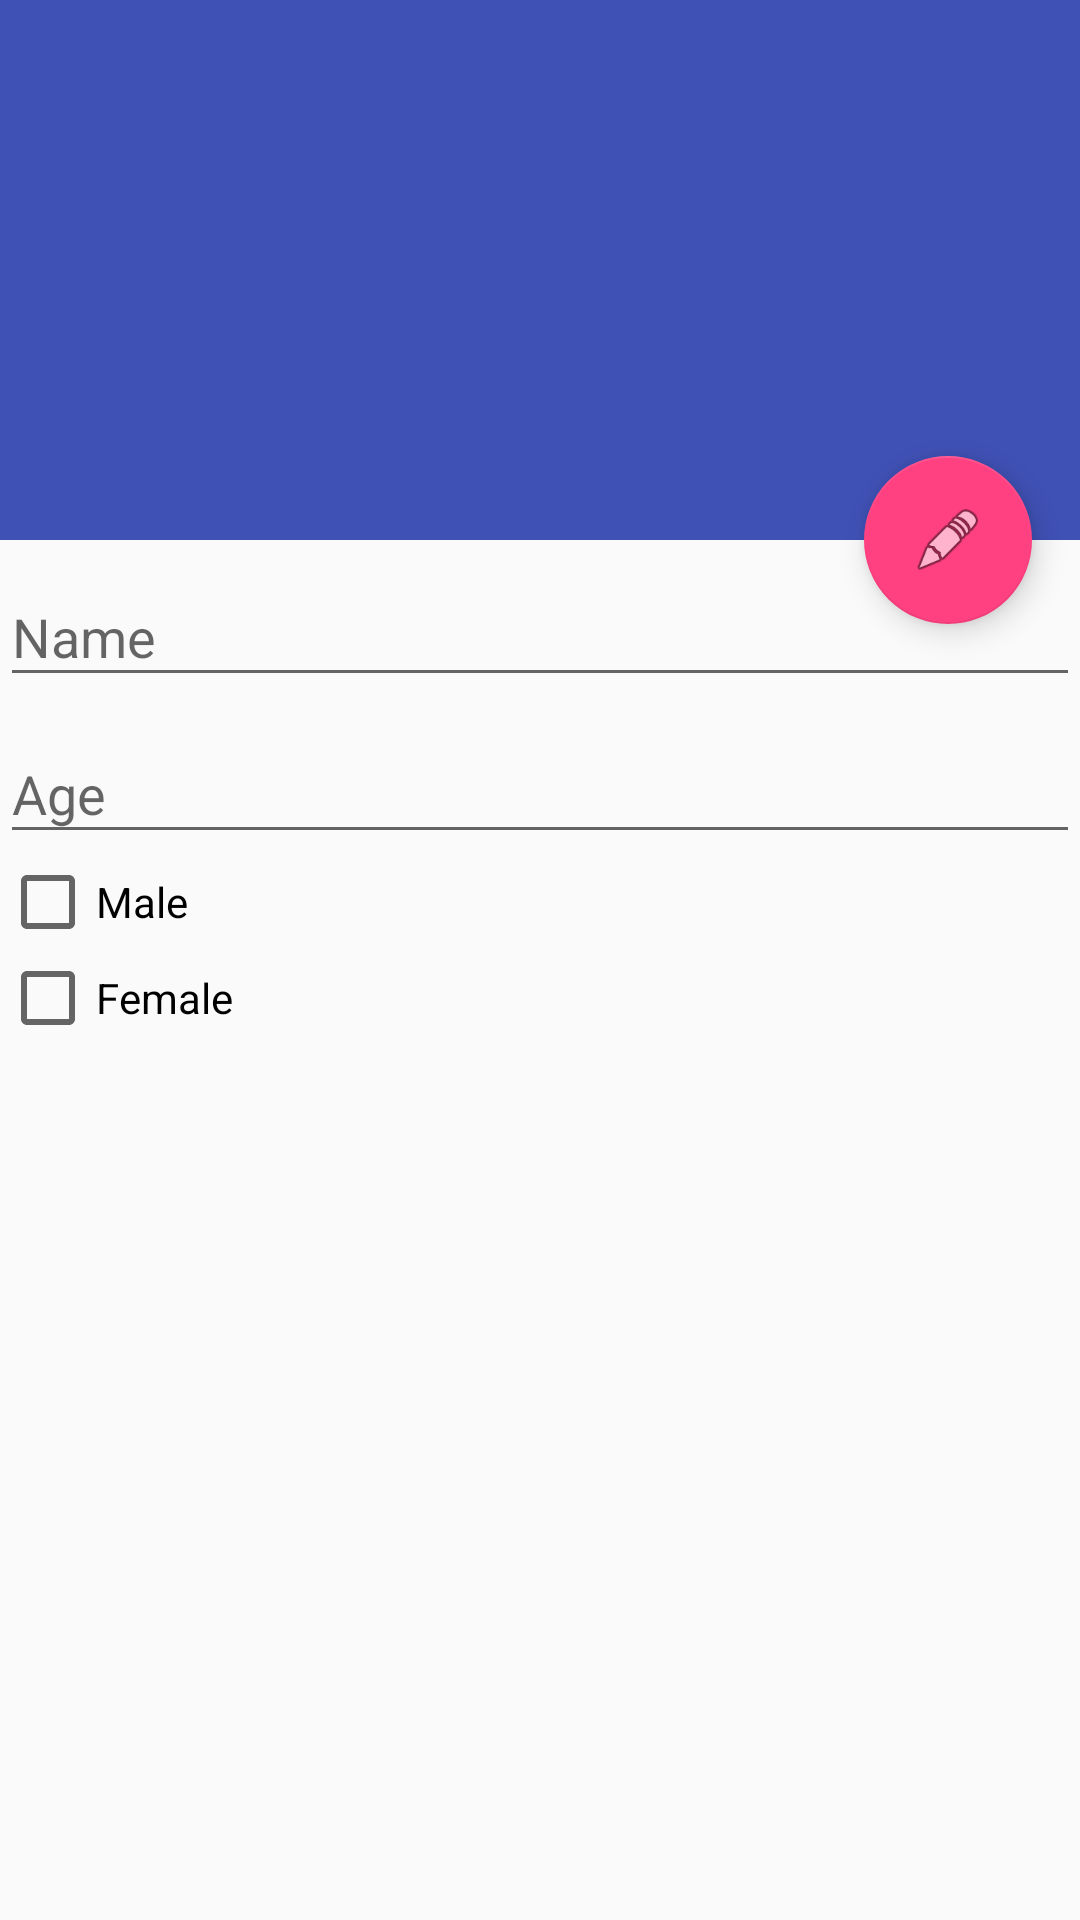

Icons on this 1080 x 1920 Android screen, each with the point to tap as (x,y):
edit: (948,540)
